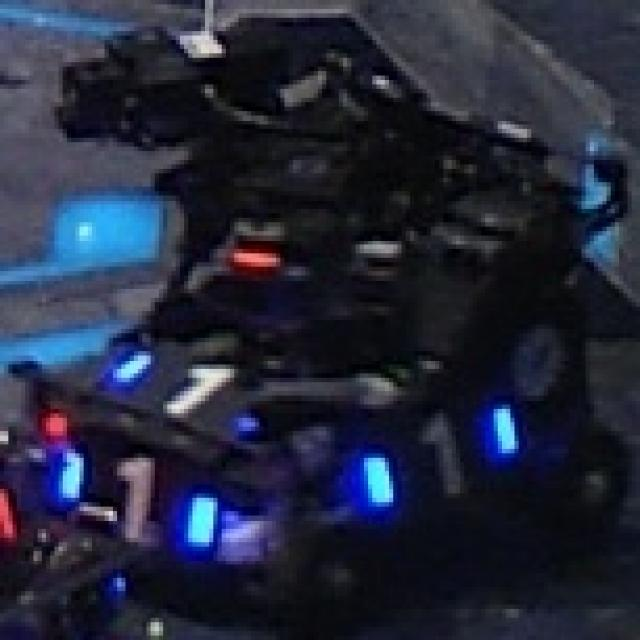B1: (359, 400, 518, 511), (54, 445, 218, 551)
